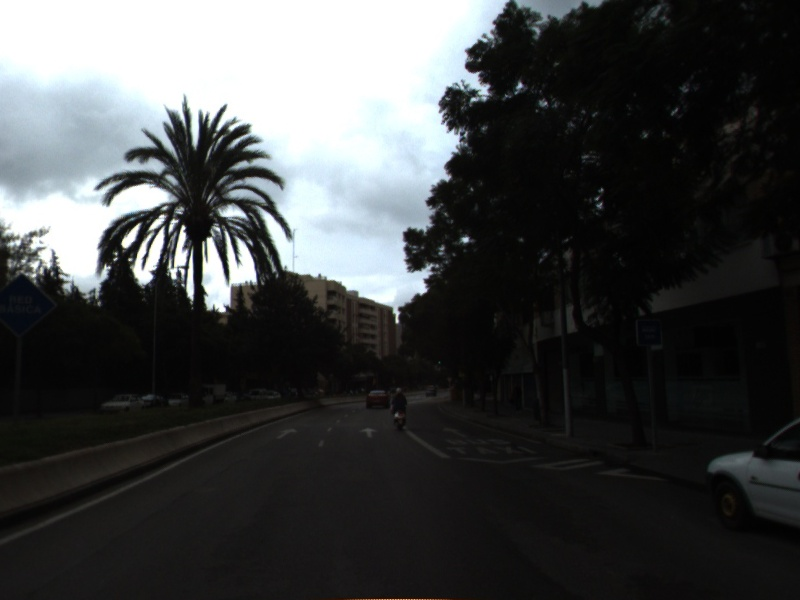STRAIGHT: (273, 426, 300, 441), (441, 425, 468, 439), (358, 425, 380, 439)
